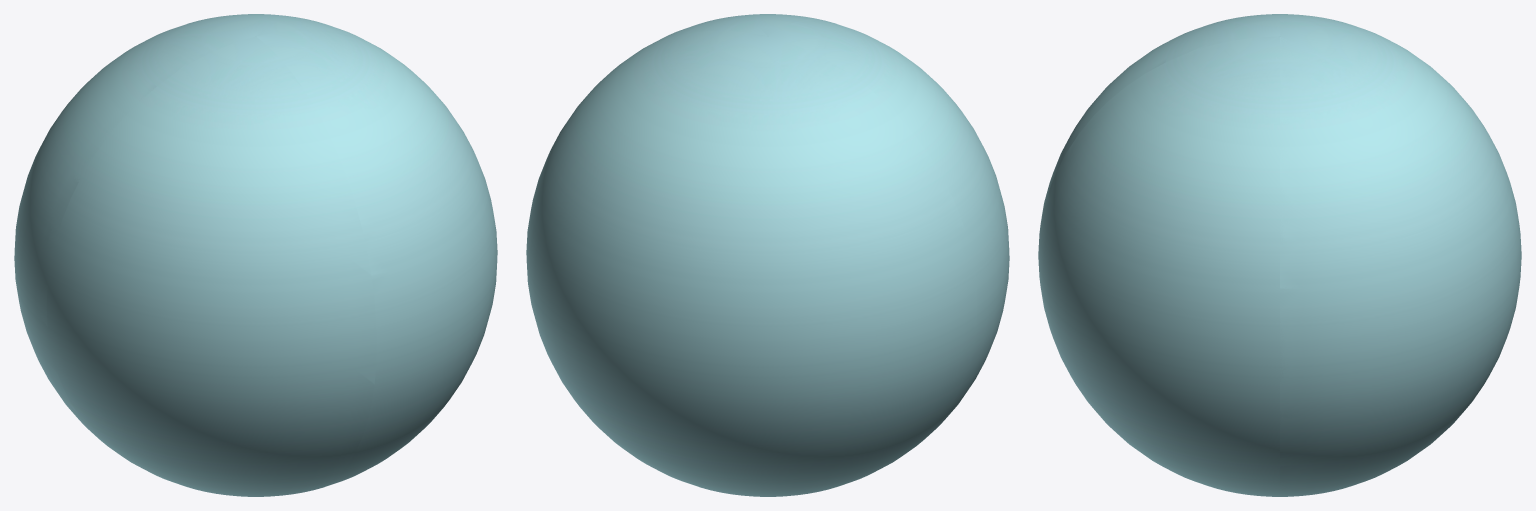
File: uran_animacja.glb
3 views of the same model, side by side, from view 1: azimuth 30°, elevation 25°; view 2: azimuth 150°, elevation 25°; view 3: azimuth 270°, elevation 25° (orthographic).
Visible parts, largest first — view 1: Neptune, Neptune.002; view 2: Neptune.002, Neptune; view 3: Neptune.002, Neptune.
Part boxes in pixels (x1,y1,x2,y2): Neptune: (16,14,385,496); Neptune.002: (14,15,497,489); Neptune.002: (530,14,977,496); Neptune: (526,19,1009,495); Neptune.002: (1038,14,1519,496); Neptune: (1039,14,1521,496).
Size of the model in its own units: 2.02 by 2.02 by 2.02.
Materials: 4 (2 with a texture image).
